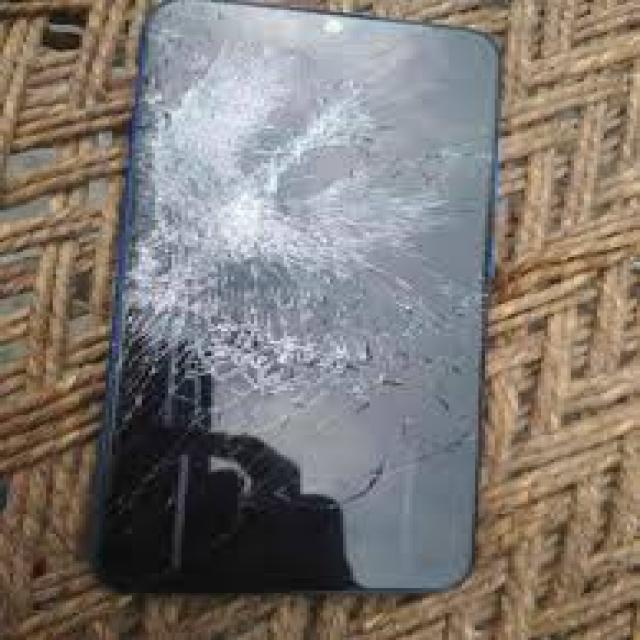mobile phone: (86, 0, 501, 596)
